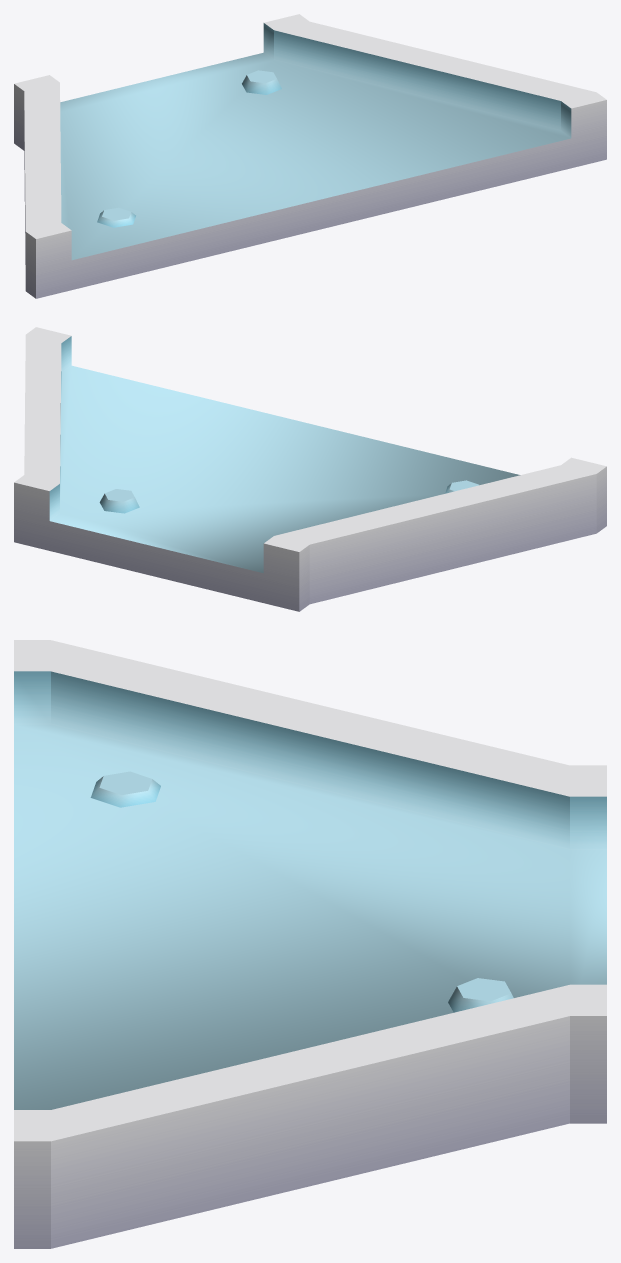
Rendered from snow-tile-wide-transition.fbx.
3 renders of one model, top to bottom at view 1: azimuth 30°, elevation 25°; view 2: azimuth 150°, elevation 25°; view 3: azimuth 270°, elevation 25°, orthographic. The views are drawn at different scales.
Visible parts, largest first — view 1: snow-tile-wide-transition; view 2: snow-tile-wide-transition; view 3: snow-tile-wide-transition.
Boxes of the visible parts, bbox=[...] form: snow-tile-wide-transition: bbox=[14, 14, 606, 298]; snow-tile-wide-transition: bbox=[14, 327, 606, 611]; snow-tile-wide-transition: bbox=[14, 640, 606, 1248].
Size of the model in its own units: 200 by 20 by 100.
